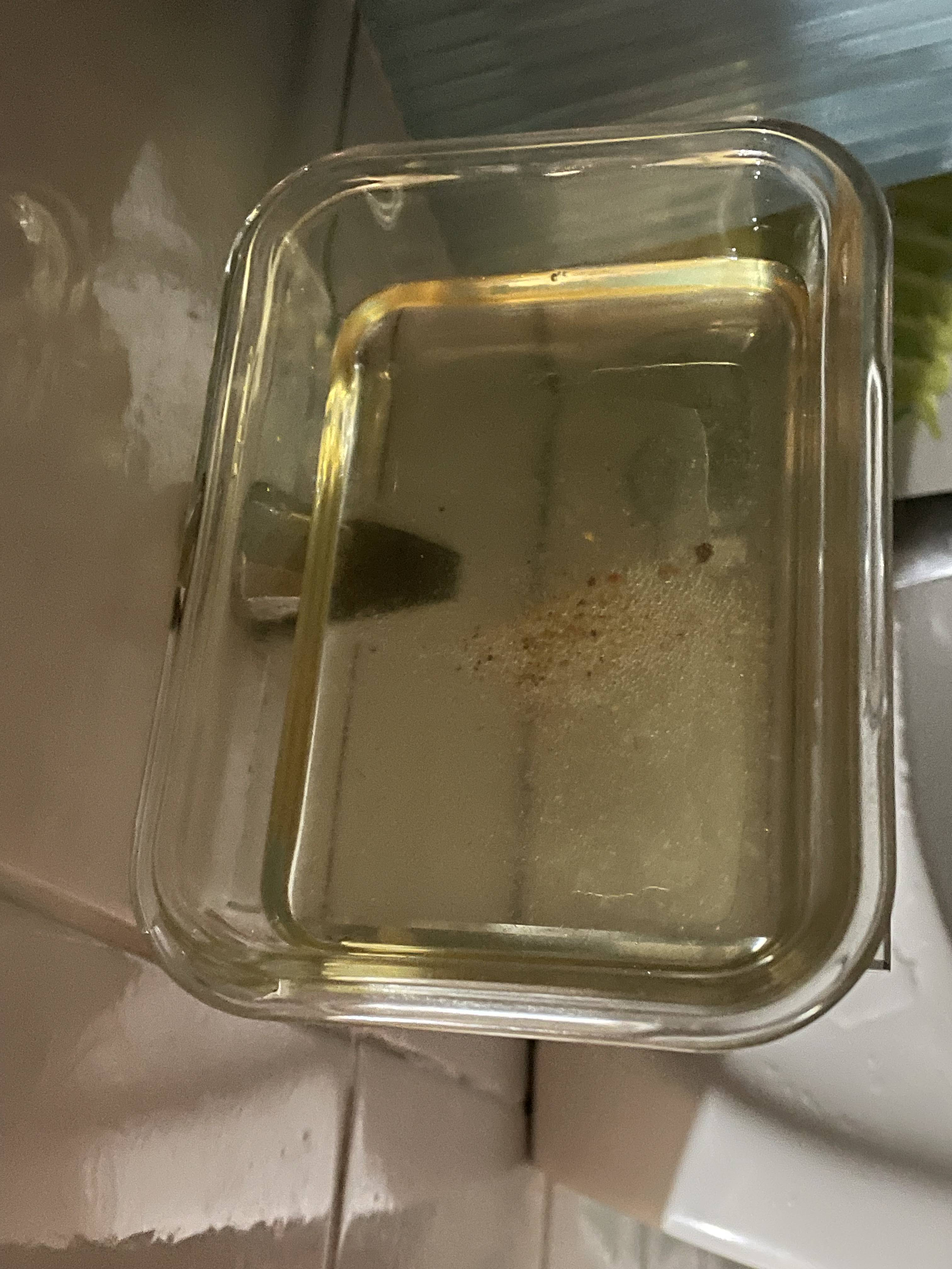reusable: (271, 261, 809, 976)
